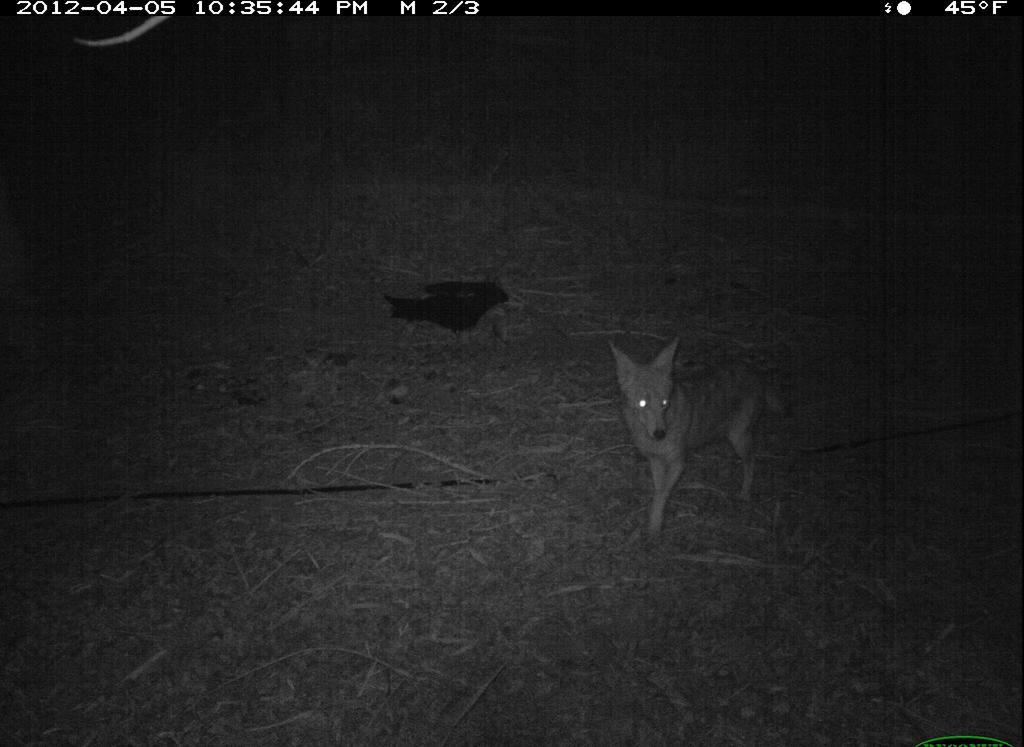coyote: (598, 333, 799, 536)
